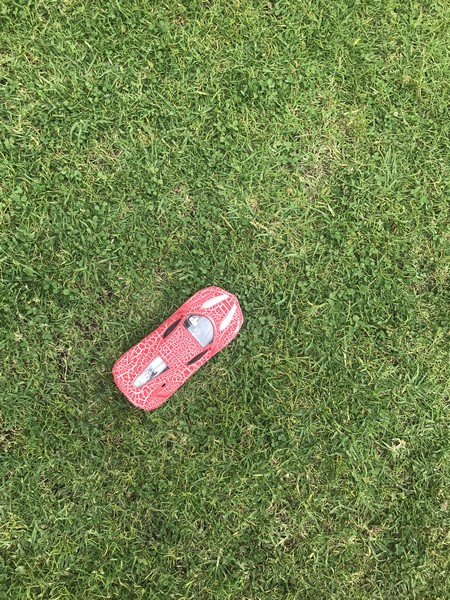RC: (109, 285, 249, 412)
